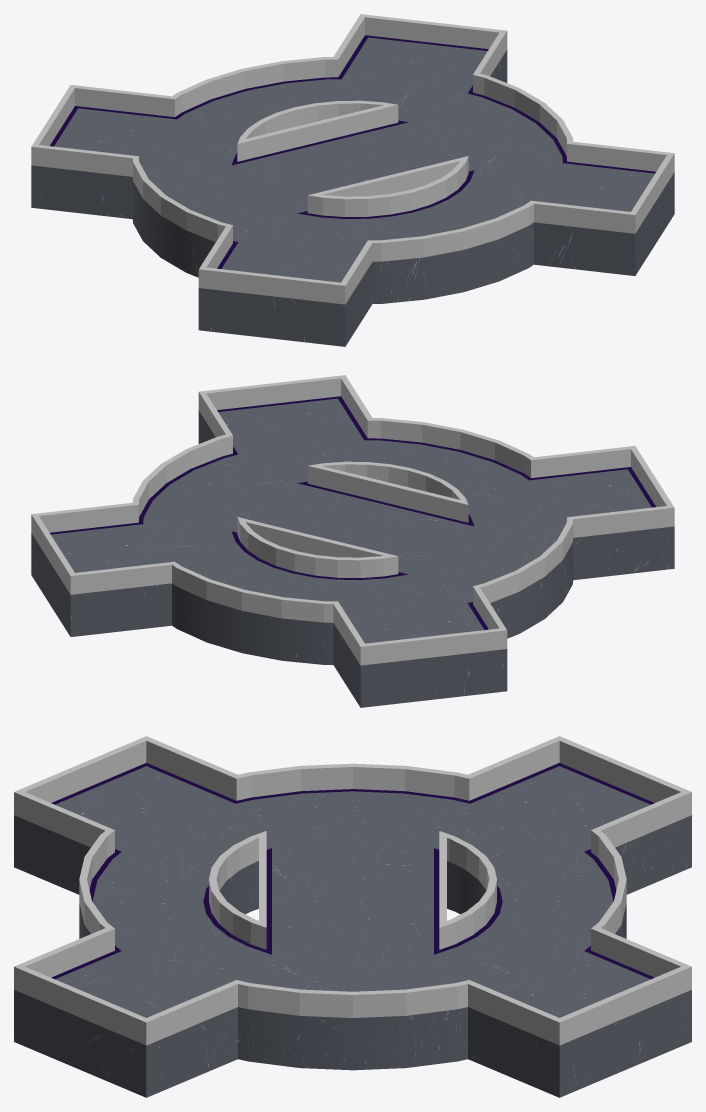
Rendered from Battle_Stage 23.fbx.
3 views of the same model, one above another, from view 1: azimuth 30°, elevation 25°; view 2: azimuth 150°, elevation 25°; view 3: azimuth 270°, elevation 25° (orthographic). The views are drawn at different scales.
Visible parts, largest first — view 1: Cylinder_057_1, Cylinder_057_1.001, Cylinder_057_1.002; view 2: Cylinder_057_1, Cylinder_057_1.001, Cylinder_057_1.002; view 3: Cylinder_057_1, Cylinder_057_1.001, Cylinder_057_1.002.
Part boxes in pixels (box(x1,y1,x2,y2)): Cylinder_057_1: box(31, 37, 674, 346); Cylinder_057_1.001: box(31, 14, 674, 304); Cylinder_057_1.002: box(50, 35, 655, 268); Cylinder_057_1: box(31, 398, 674, 707); Cylinder_057_1.001: box(31, 375, 674, 665); Cylinder_057_1.002: box(50, 396, 655, 629); Cylinder_057_1: box(14, 766, 691, 1097); Cylinder_057_1.001: box(14, 736, 691, 1045); Cylinder_057_1.002: box(51, 763, 654, 979).
Size of the model in its own units: 7059 by 865 by 7059.
